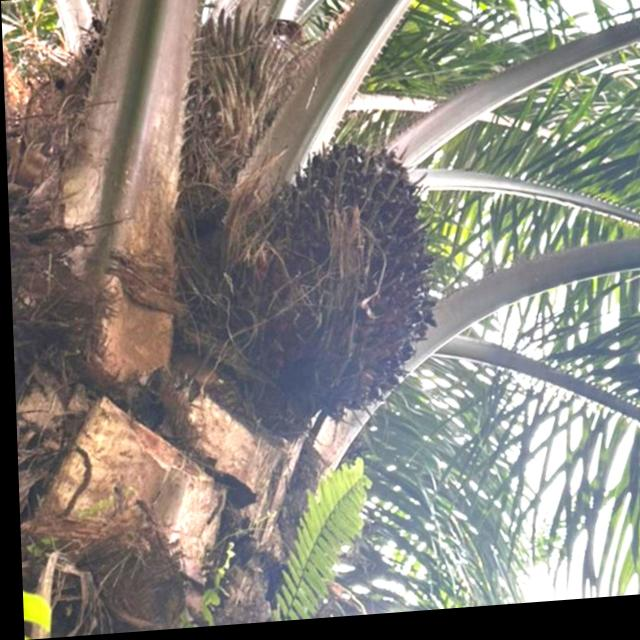ripe: (269, 125, 437, 412)
